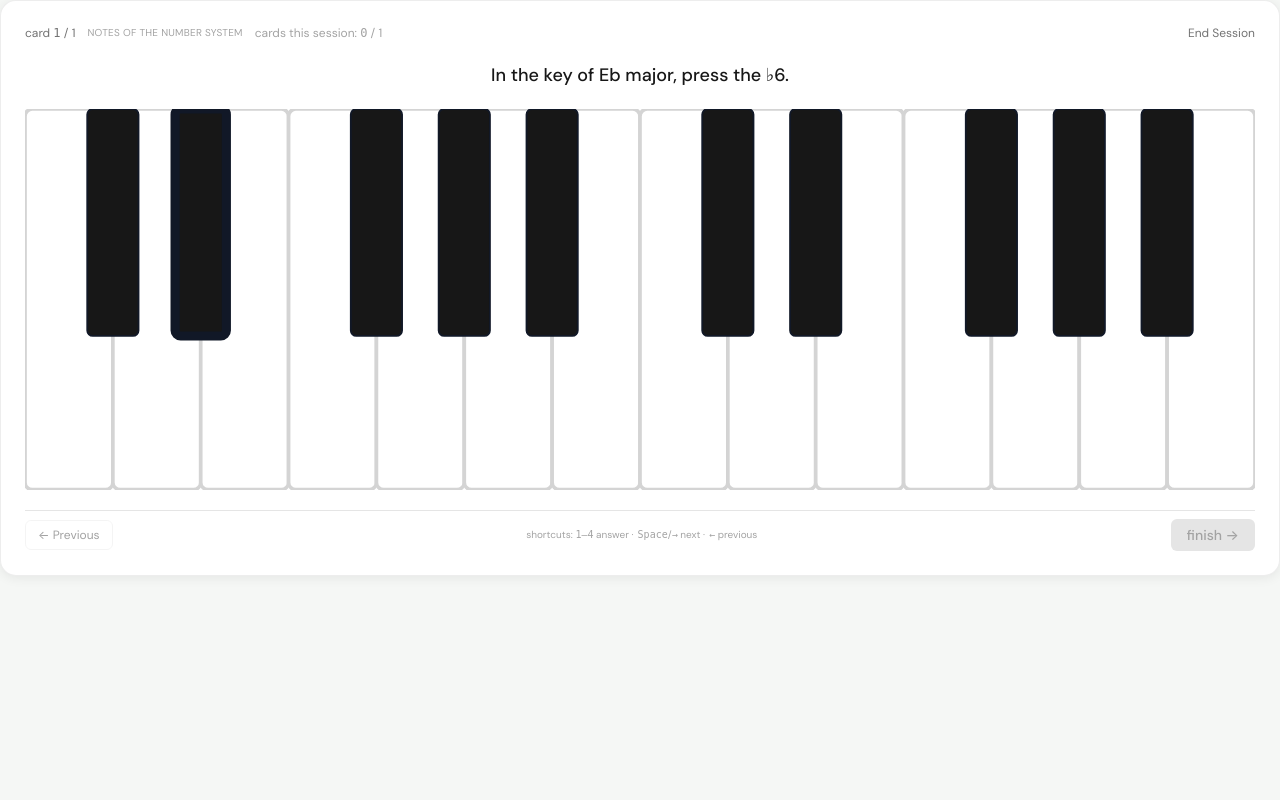
the correct-answer line after a wrong press › reads C♭ (B) where the stored answer is still Cb
This screenshot has width=1280, height=800.
Click the icon named "Answer keyboard" at (640, 299), box [25,109,1255,490]
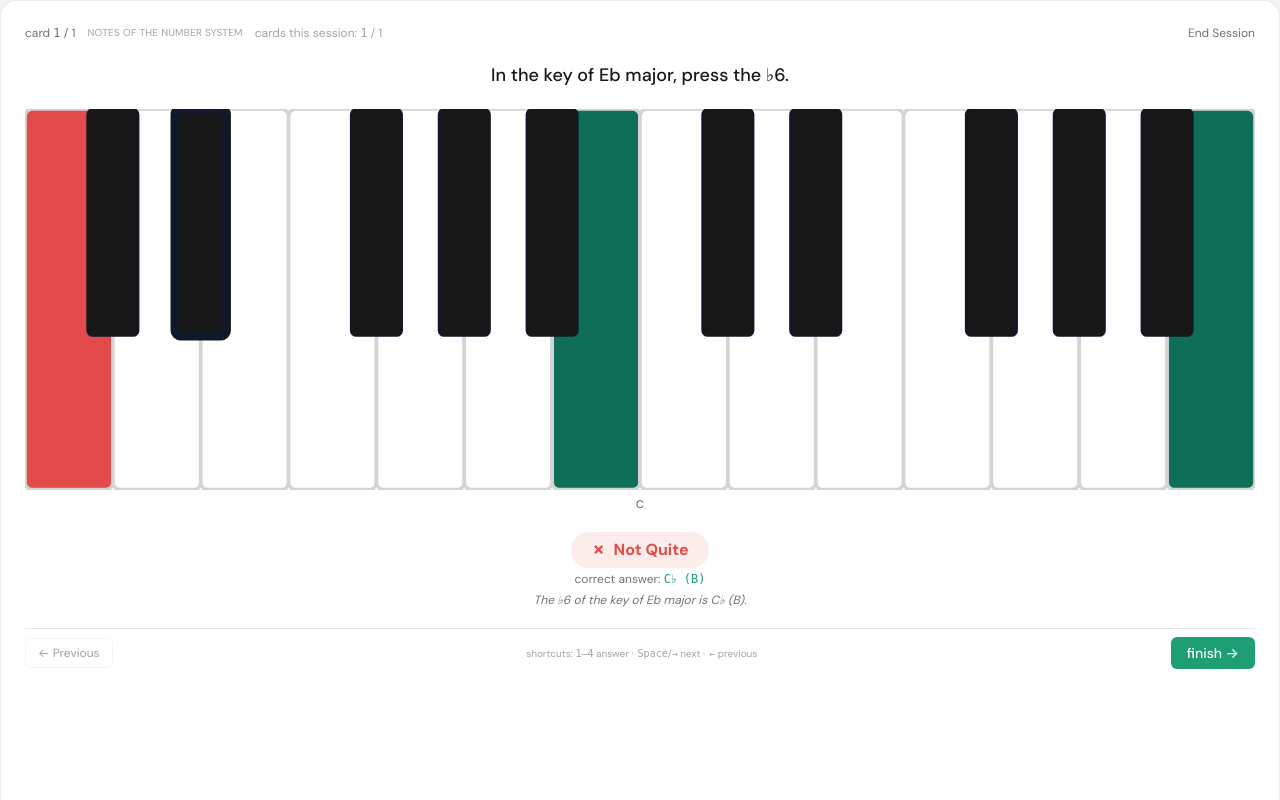
Result: the text with test id "correct-answer" reads "C♭ (B)" at [664,572,706,586]
